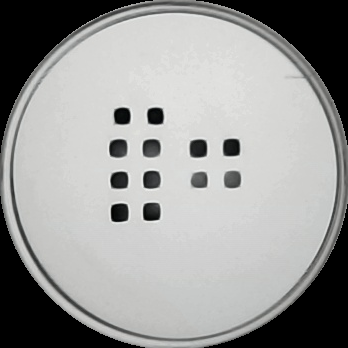检查点: (109, 201, 132, 224), (107, 136, 129, 160), (144, 105, 167, 127), (141, 137, 163, 159), (221, 138, 243, 158), (112, 106, 133, 126), (141, 202, 162, 222), (188, 139, 210, 158), (110, 170, 129, 191), (191, 170, 209, 191), (143, 170, 162, 189), (222, 171, 242, 189)
